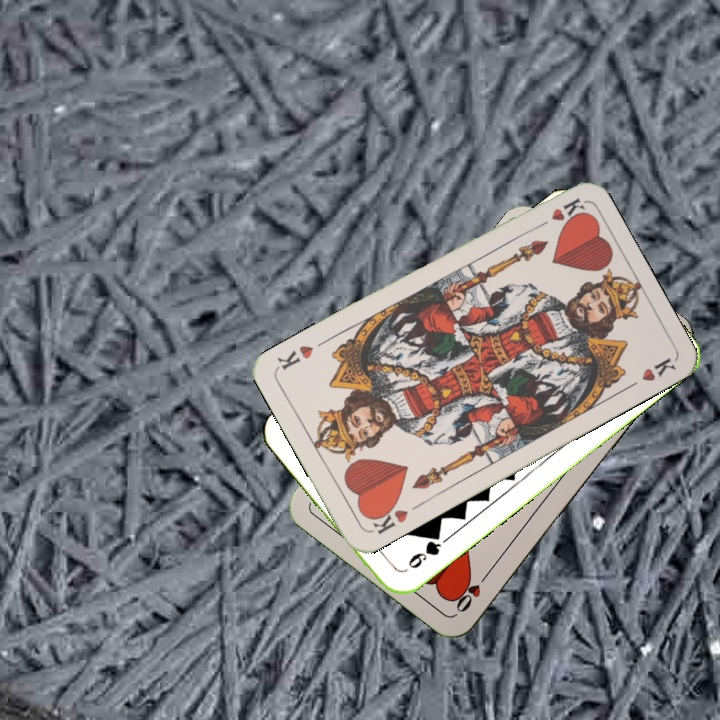G9: (403, 528, 444, 572)
HK: (530, 194, 587, 233), (365, 499, 411, 537)
HO: (451, 565, 494, 616)
